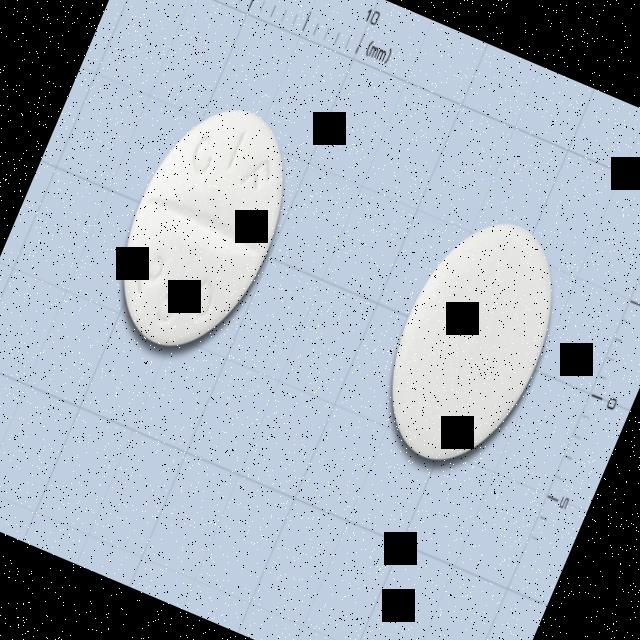Sinil Ciprofloxacin HCl Tab: (88, 82, 316, 371)
